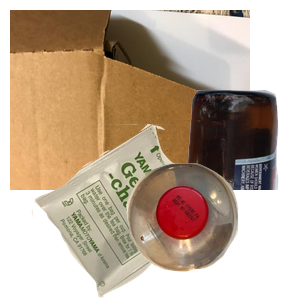cardboard: (10, 10, 250, 190)
glass: (87, 87, 300, 267)
plastic: (124, 161, 300, 300)
trash: (29, 124, 238, 300)
